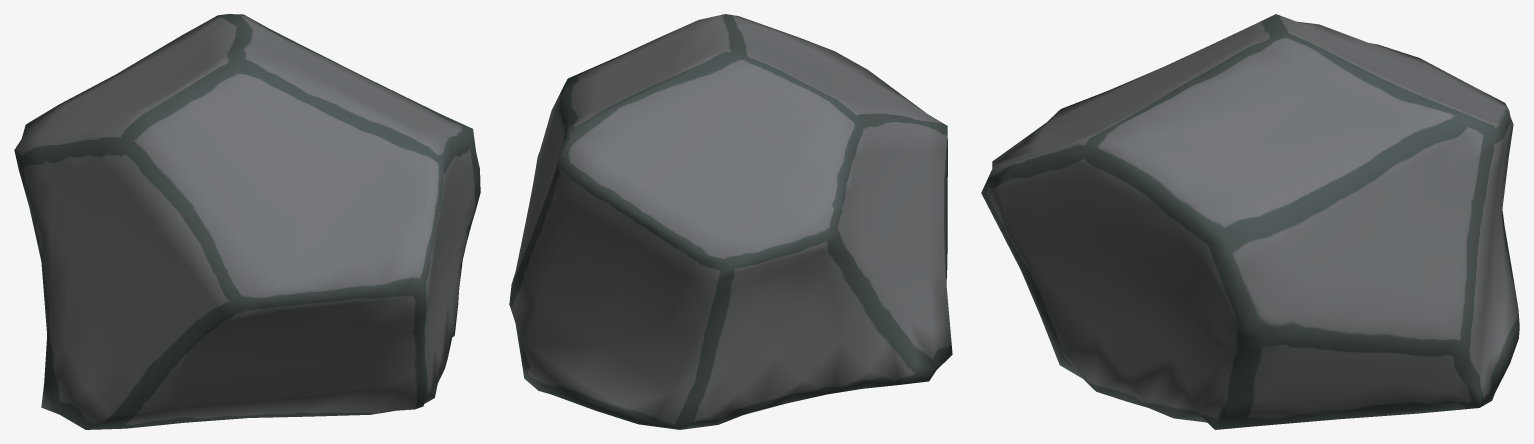
Rendered from SmallRock.fbx.
The picture shows the model from 3 angles, left to right: view 1: azimuth 30°, elevation 25°; view 2: azimuth 150°, elevation 25°; view 3: azimuth 270°, elevation 25°; orthographic projection. The views are drawn at different scales.
Visible parts, largest first — view 1: SmallRock_LOD0; view 2: SmallRock_LOD0; view 3: SmallRock_LOD0.
Boxes of the visible parts, x1,y1,x2,y2 form: SmallRock_LOD0: [14, 14, 480, 429]; SmallRock_LOD0: [509, 14, 952, 429]; SmallRock_LOD0: [981, 14, 1519, 429].
Size of what is drawn, in the model's own units: 106 by 73.39 by 114.
1 material, 1 textured.
